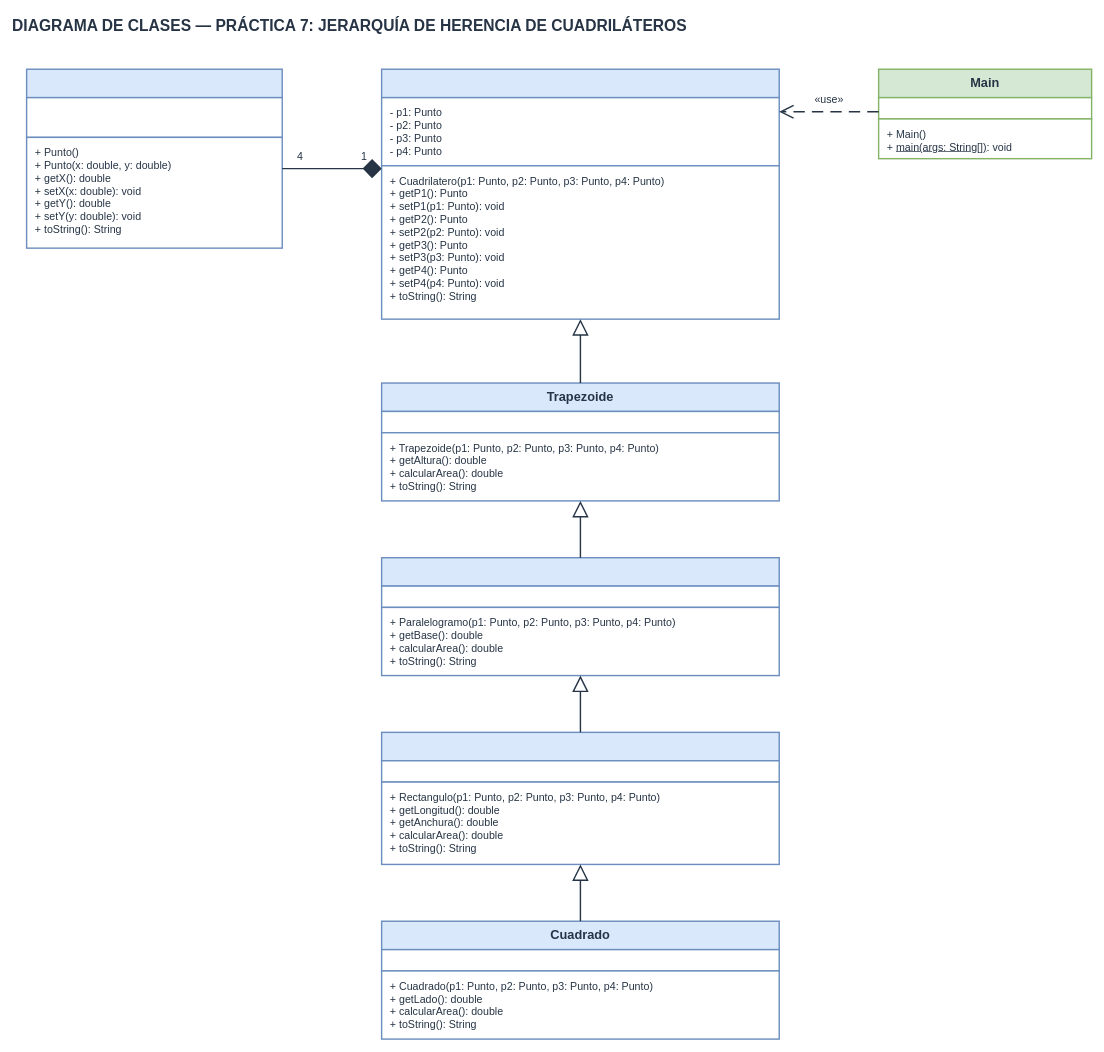
The diagram is 1104 pixels wide and 1052 high, and some of its shapes have lost their labels. Each missing label, with the centre of its shape:
"- x: double - y: double" goes at point (154, 117).
"Cuadrilatero" goes at point (580, 83).
"Paralelogramo" goes at point (580, 571).
"Punto" goes at point (154, 83).
"Rectangulo" goes at point (580, 746).
